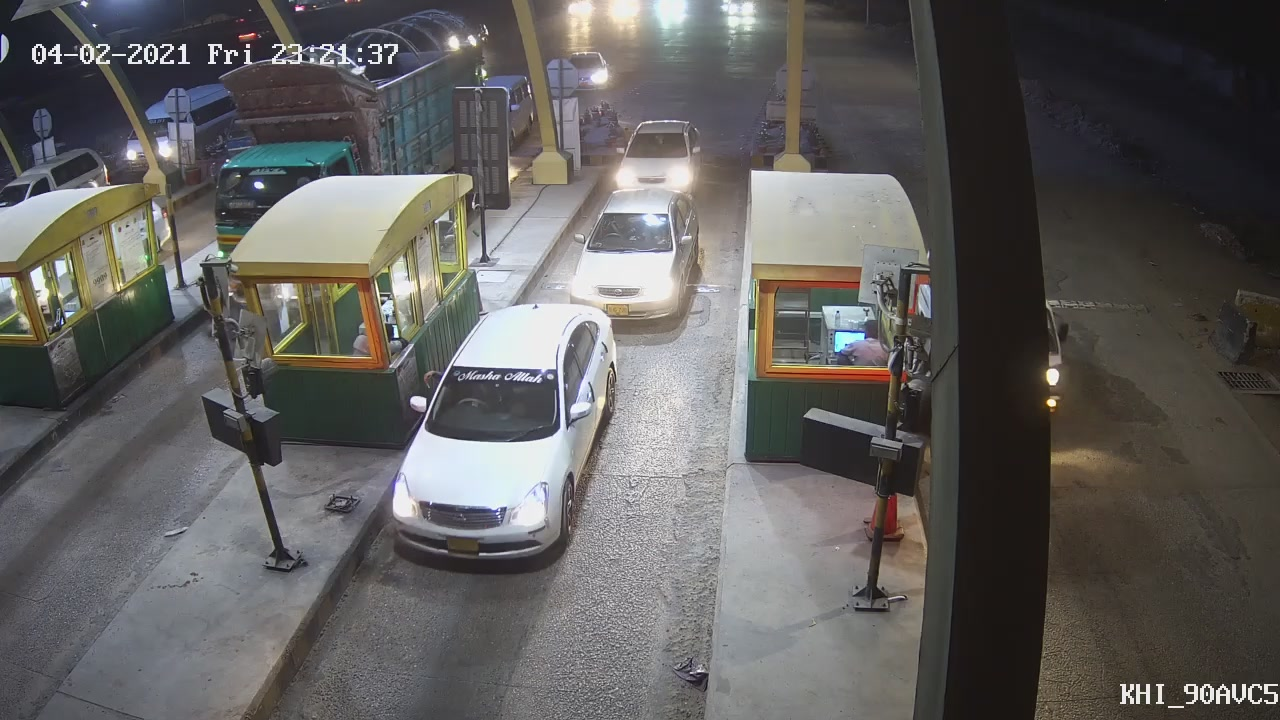F1: (382, 300, 617, 570), (551, 182, 710, 329)
